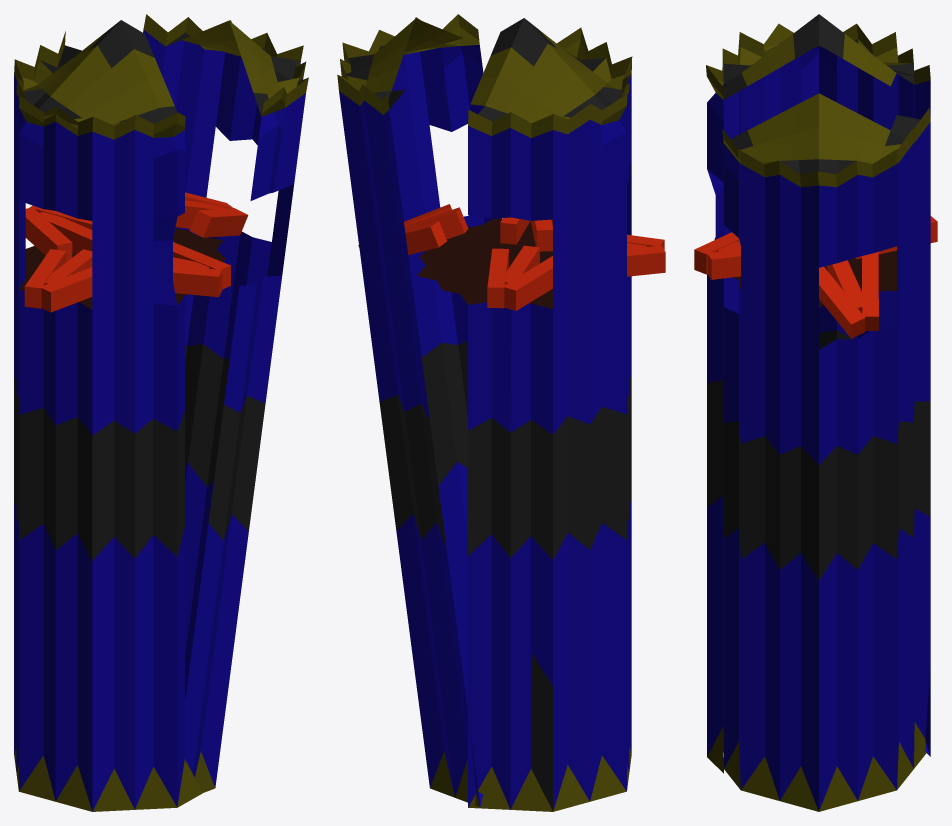
File: ballistictower1d.obj
The picture shows the model from 3 angles, left to right: view 1: azimuth 30°, elevation 25°; view 2: azimuth 150°, elevation 25°; view 3: azimuth 270°, elevation 25°; orthographic projection.
Visible parts, largest first — view 1: Cube, Cube.013, Cube.011, Cube.001, Cube.007, Cube.005, Cube.010, Cube.006, Cube.008, Cube.012, Cube.003; view 2: Cube, Cube.013, Cube.005, Cube.010, Cube.004, Cube.002, Cube.003, Cube.006, Cube.008, Cube.009; view 3: Cube.013, Cube, Cube.001, Cube.002, Cube.008, Cube.003, Cube.007.
Part boxes in pixels (bbox=[...]): Cube: bbox=[14, 20, 225, 811]; Cube.013: bbox=[143, 14, 308, 792]; Cube.011: bbox=[41, 267, 92, 312]; Cube.001: bbox=[189, 208, 248, 237]; Cube.007: bbox=[173, 265, 222, 297]; Cube.005: bbox=[25, 207, 72, 261]; Cube.010: bbox=[24, 249, 66, 308]; Cube.006: bbox=[39, 212, 92, 254]; Cube.008: bbox=[173, 242, 230, 289]; Cube.012: bbox=[45, 249, 92, 284]; Cube.003: bbox=[175, 200, 225, 228]; Cube: bbox=[417, 18, 632, 811]; Cube.013: bbox=[337, 14, 502, 806]; Cube.005: bbox=[503, 256, 552, 310]; Cube.010: bbox=[627, 245, 665, 276]; Cube.004: bbox=[487, 248, 508, 308]; Cube.002: bbox=[358, 221, 446, 255]; Cube.003: bbox=[404, 207, 468, 239]; Cube.006: bbox=[505, 245, 539, 284]; Cube.008: bbox=[500, 217, 530, 244]; Cube.009: bbox=[530, 219, 552, 251]; Cube.013: bbox=[722, 93, 930, 811]; Cube: bbox=[706, 14, 930, 773]; Cube.001: bbox=[819, 266, 865, 338]; Cube.002: bbox=[862, 252, 878, 330]; Cube.008: bbox=[707, 249, 740, 279]; Cube.003: bbox=[826, 260, 862, 313]; Cube.007: bbox=[694, 232, 739, 274].
Size of the model in its own units: 0.6204 by 1.49 by 0.437.
